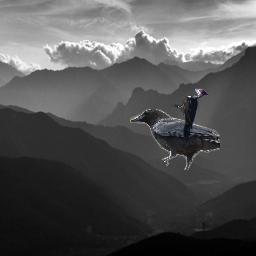Crow: (130, 109, 220, 170)
Woodpecker: (171, 87, 209, 144)
